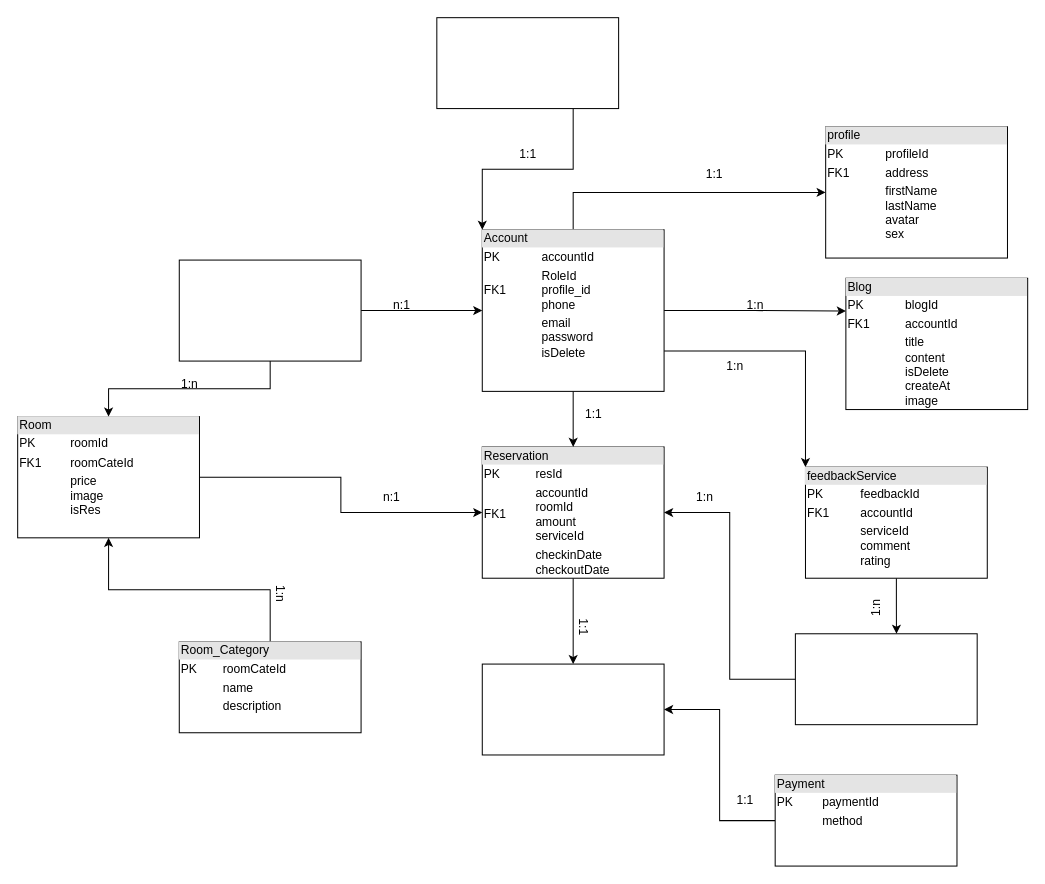
This 1045x884 diagram has some shape labels left out. Here are the shapes that lost their labels. From the top down, the centre of each, then its label:
At (x=527, y=63): "role PK roleId FK1 name".
At (x=269, y=310): "Feedback PK feedbackId FK1 accountId roomId rating comment".
At (x=885, y=679): "Service PK serviceId name description price".
At (x=572, y=709): "Transaction PK transactionId FK1 resId paymentId status".
